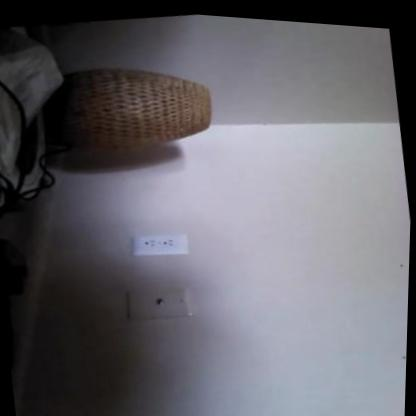OUTLET: (129, 227, 191, 263)
